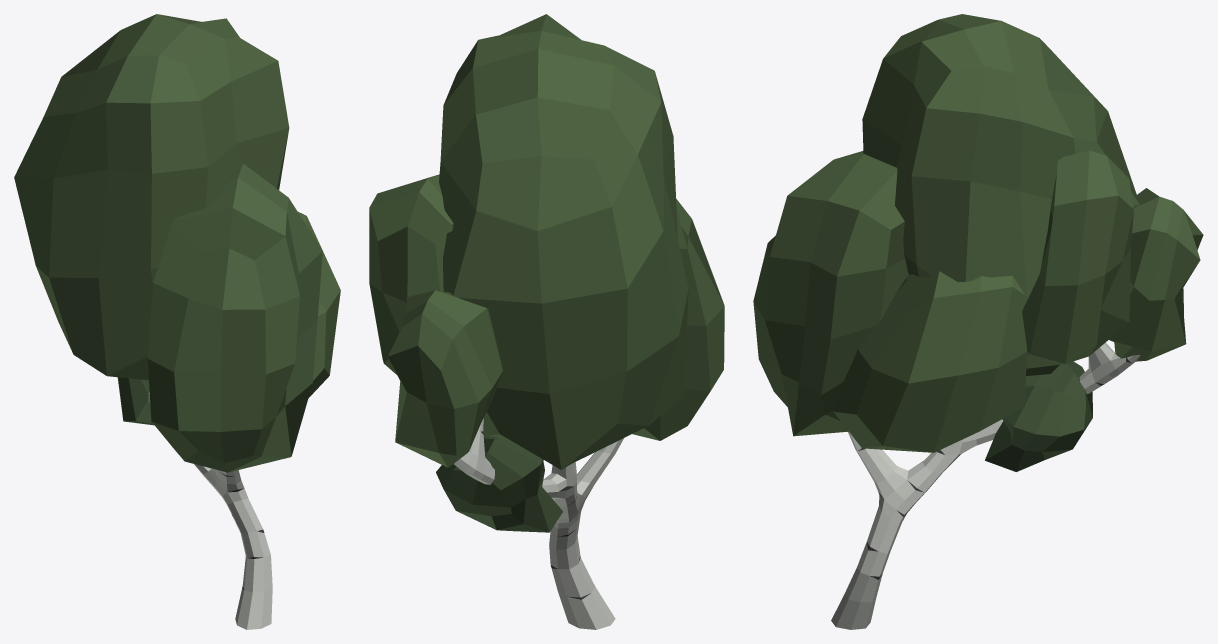
Rendered from BirchTree_1.glb.
The picture shows the model from 3 angles, left to right: view 1: azimuth 30°, elevation 25°; view 2: azimuth 150°, elevation 25°; view 3: azimuth 270°, elevation 25°; orthographic projection. The views are drawn at different scales.
Visible parts, largest first — view 1: Green, White, DarkGreen; view 2: Green, White, DarkGreen; view 3: Green, White, DarkGreen.
Part boxes in pixels (left/top/right/bottom): Green: left=14, top=14, right=340, bottom=472; White: left=148, top=393, right=272, bottom=629; DarkGreen: left=117, top=377, right=153, bottom=425; Green: left=369, top=14, right=724, bottom=469; White: left=454, top=418, right=623, bottom=629; DarkGreen: left=436, top=429, right=562, bottom=532; Green: left=753, top=14, right=1203, bottom=452; White: left=831, top=342, right=1140, bottom=629; DarkGreen: left=985, top=361, right=1092, bottom=471.
Bounding box in the file's own units: 1.7 × 3.57 × 2.48.
